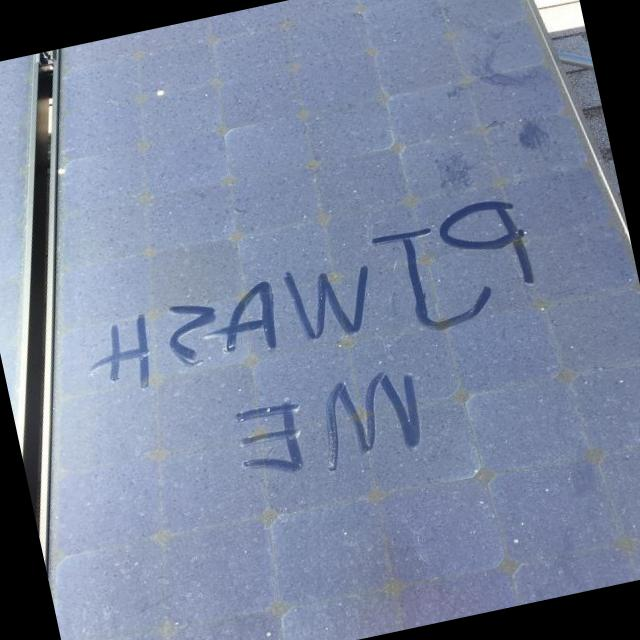faulty: (48, 0, 640, 640)
